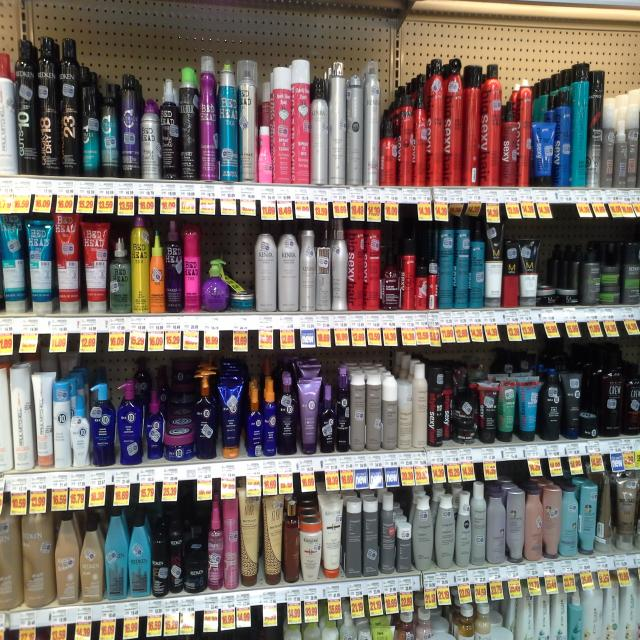unorganised: (594, 471, 616, 555)
